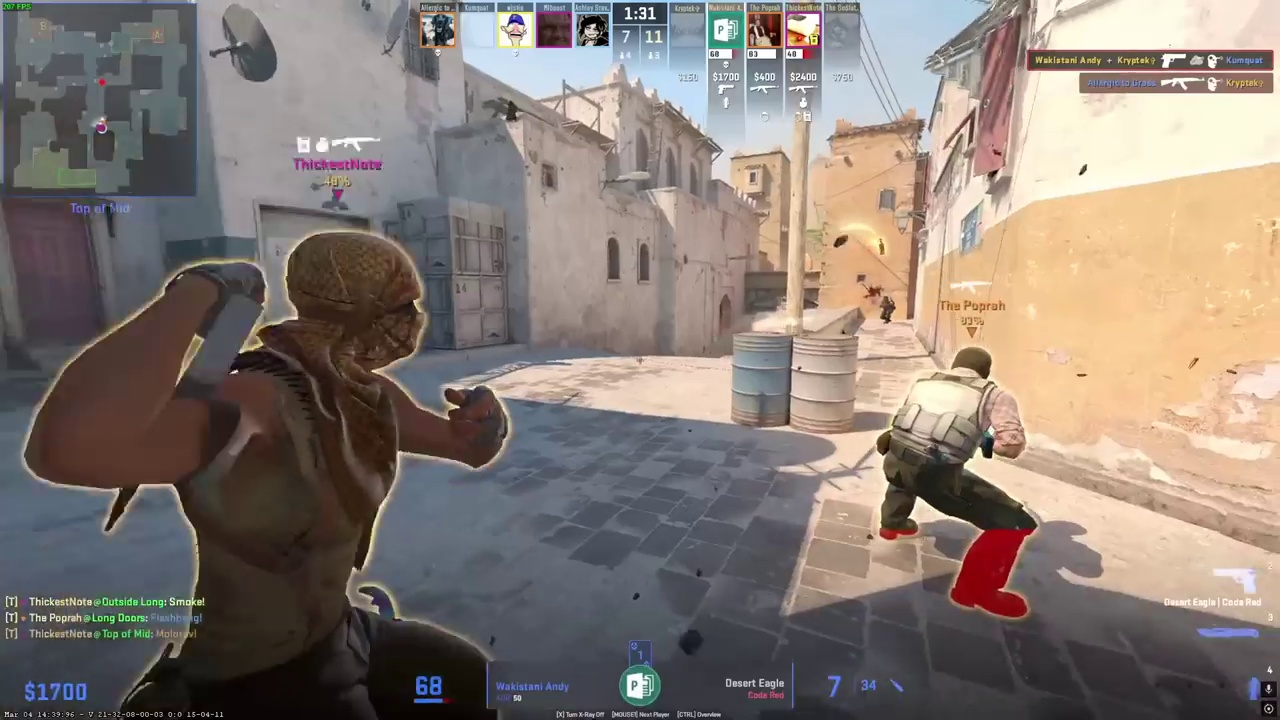CT: (880, 296, 895, 324)
Terrorist: (80, 232, 487, 720), (880, 347, 1039, 609)
